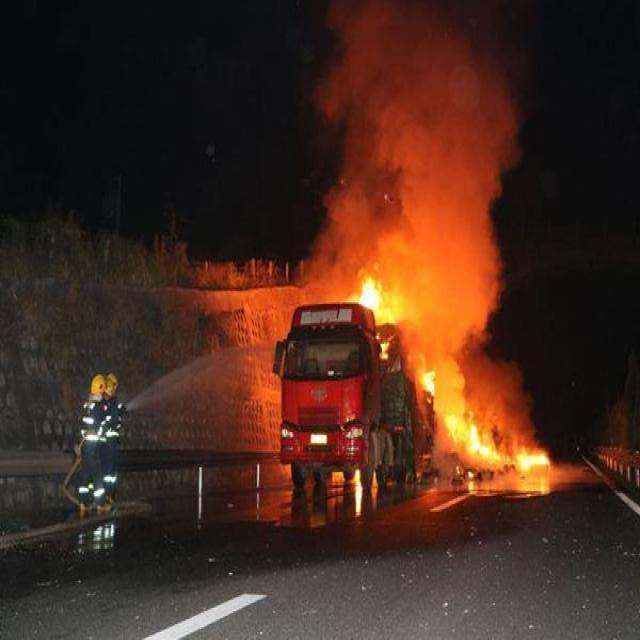Fire: (440, 412, 498, 464), (355, 275, 382, 315), (518, 446, 548, 474), (423, 368, 437, 397)
Smoke: (314, 0, 518, 266), (439, 268, 524, 408)
